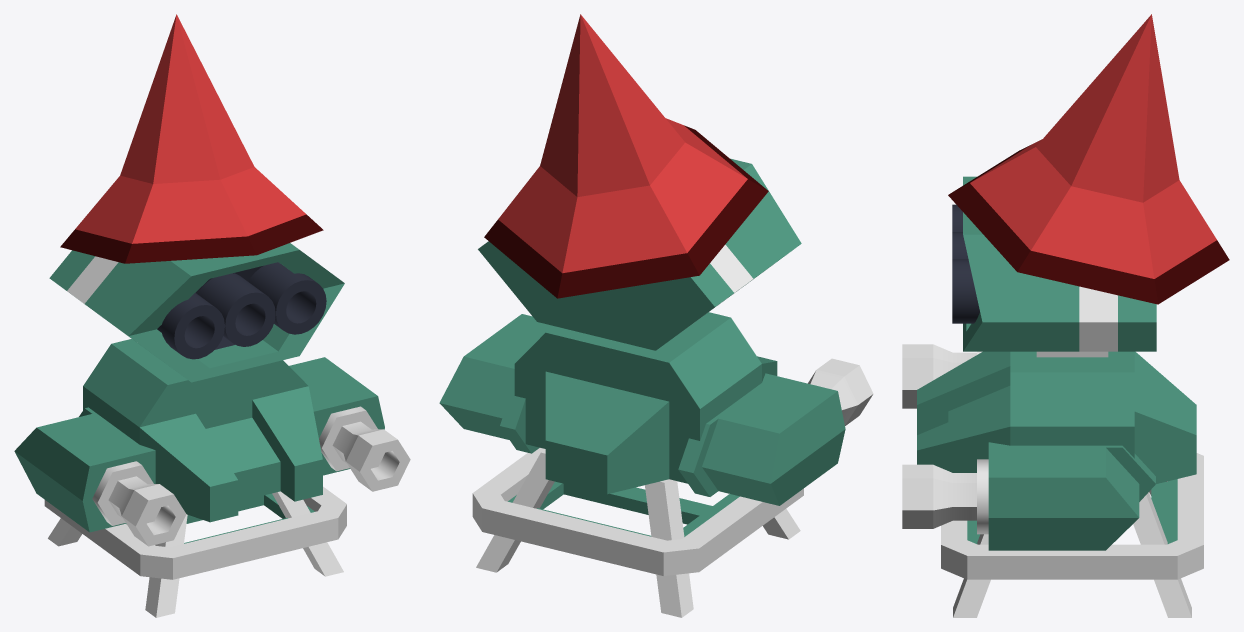
Rendered from walking_02_04.obj.
3 views of the same model, side by side, from view 1: azimuth 30°, elevation 25°; view 2: azimuth 150°, elevation 25°; view 3: azimuth 270°, elevation 25° (orthographic). The views are drawn at different scales.
Parts seen in each view (by area): view 1: mergedBlocks; view 2: mergedBlocks; view 3: mergedBlocks.
Boxes of the visible parts, box(x1,y1,x2,y2) form: mergedBlocks: box(14, 14, 410, 617); mergedBlocks: box(439, 14, 873, 617); mergedBlocks: box(902, 14, 1229, 617).
Bounding box in the file's own units: 1.61 × 2.6 × 1.37.
